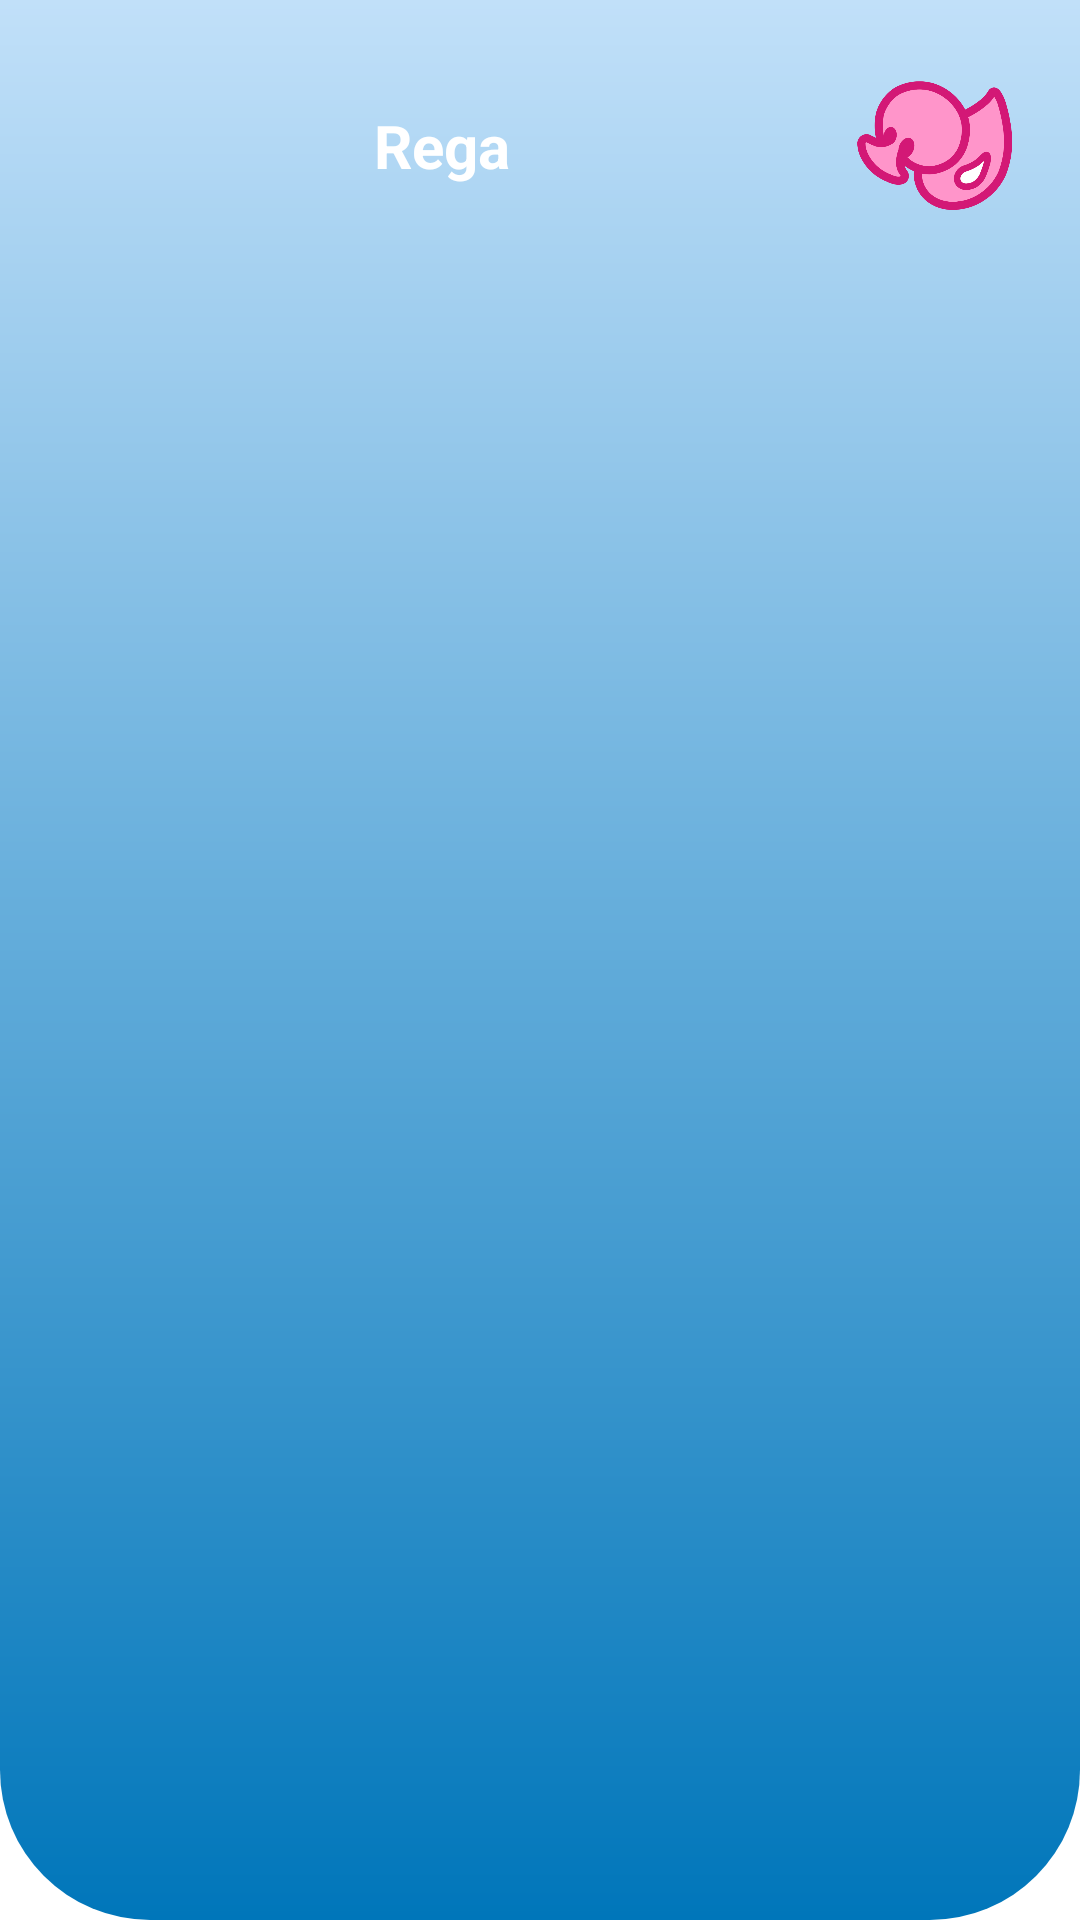

Named icons in this screenshot (1080*1920) and their bounding boxes, (x1, y1, x2, y2):
duck: (857, 81, 1012, 210)
